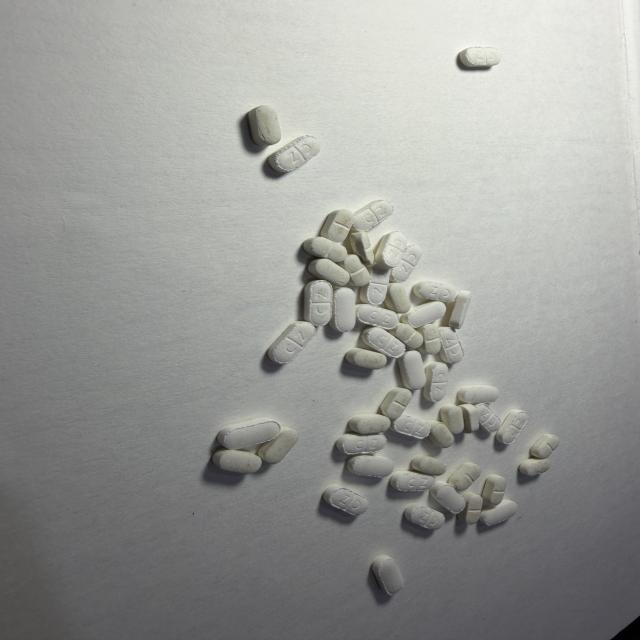pill: (268, 321, 315, 363), (218, 419, 280, 449), (269, 136, 320, 172), (258, 427, 298, 463), (323, 484, 369, 515), (304, 280, 333, 326), (362, 327, 405, 358), (248, 106, 281, 145), (372, 555, 404, 595), (353, 200, 393, 231), (212, 449, 262, 473), (430, 480, 466, 513), (360, 266, 390, 305), (391, 245, 422, 282), (375, 232, 406, 269), (308, 259, 350, 286), (401, 302, 446, 327), (303, 237, 347, 262), (330, 288, 355, 332), (496, 410, 528, 444), (398, 351, 426, 389), (356, 304, 398, 329), (336, 434, 386, 455), (405, 503, 445, 529), (321, 210, 353, 242), (380, 388, 411, 420), (347, 456, 394, 477), (423, 362, 448, 401), (480, 499, 517, 525), (448, 462, 481, 491), (391, 415, 430, 439), (414, 281, 457, 302), (345, 348, 387, 369), (390, 471, 434, 491), (343, 254, 370, 286), (449, 290, 471, 328), (460, 47, 501, 67), (349, 414, 390, 434), (440, 328, 463, 363), (391, 323, 423, 348), (482, 474, 506, 506), (458, 492, 482, 524), (458, 386, 499, 404), (351, 232, 374, 264), (530, 434, 559, 459), (440, 404, 464, 434), (411, 455, 446, 475), (387, 284, 411, 313), (428, 421, 454, 447), (476, 404, 500, 432), (420, 324, 441, 354), (519, 458, 550, 476), (460, 404, 479, 433)
